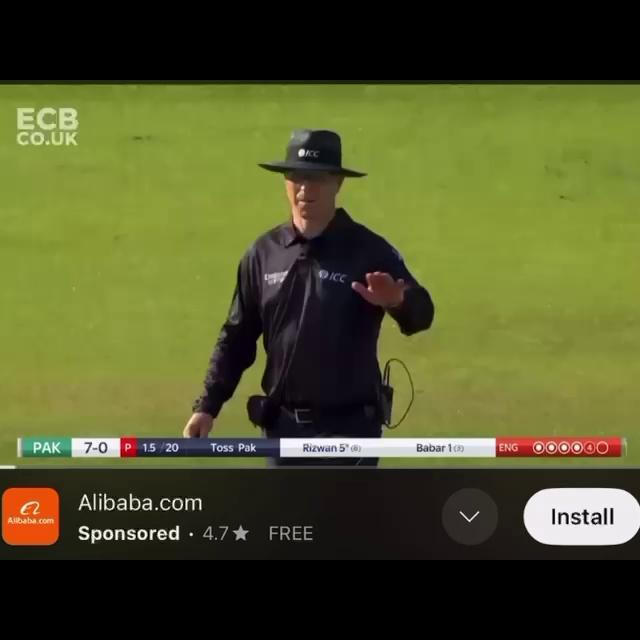umpire: (148, 118, 496, 441)
